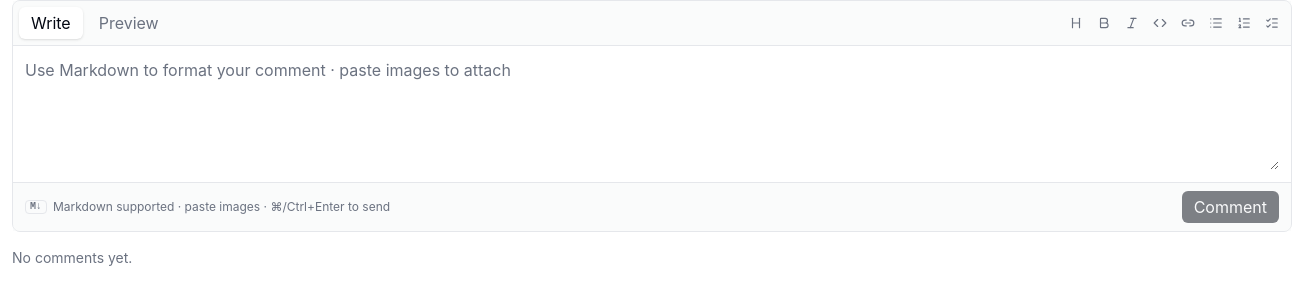
Test: CommentsTab mentions › opens mention list when typing @ and inserts selected login
Type "Hi @ra" into the text box at (652, 114), box [25,58,1279,170]
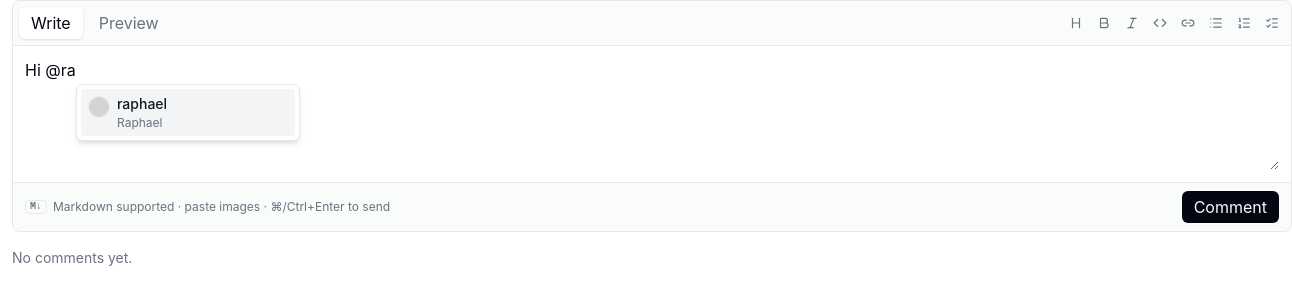
expect the text "raphael" is shown: met
Click the text "raphael" at (142, 104), box [117,95,167,112]
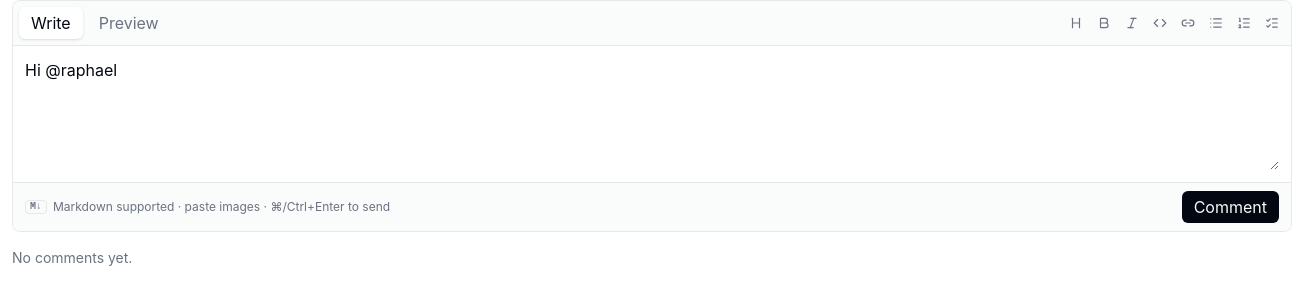
expect the text box holds "Hi @raphael ": met, box [25,58,1279,170]
